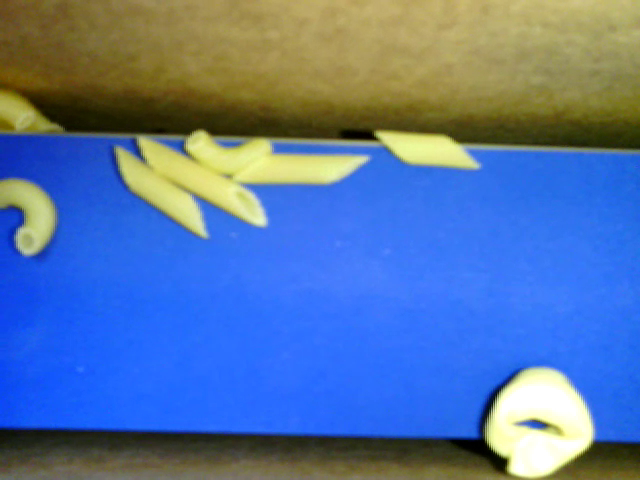elbow: (2, 175, 67, 259), (184, 127, 275, 175), (1, 92, 44, 132)
penne: (133, 128, 269, 229), (109, 140, 211, 243), (372, 124, 481, 174), (230, 150, 374, 184)
shell: (2, 85, 69, 135)
tortellini: (467, 357, 596, 476)
